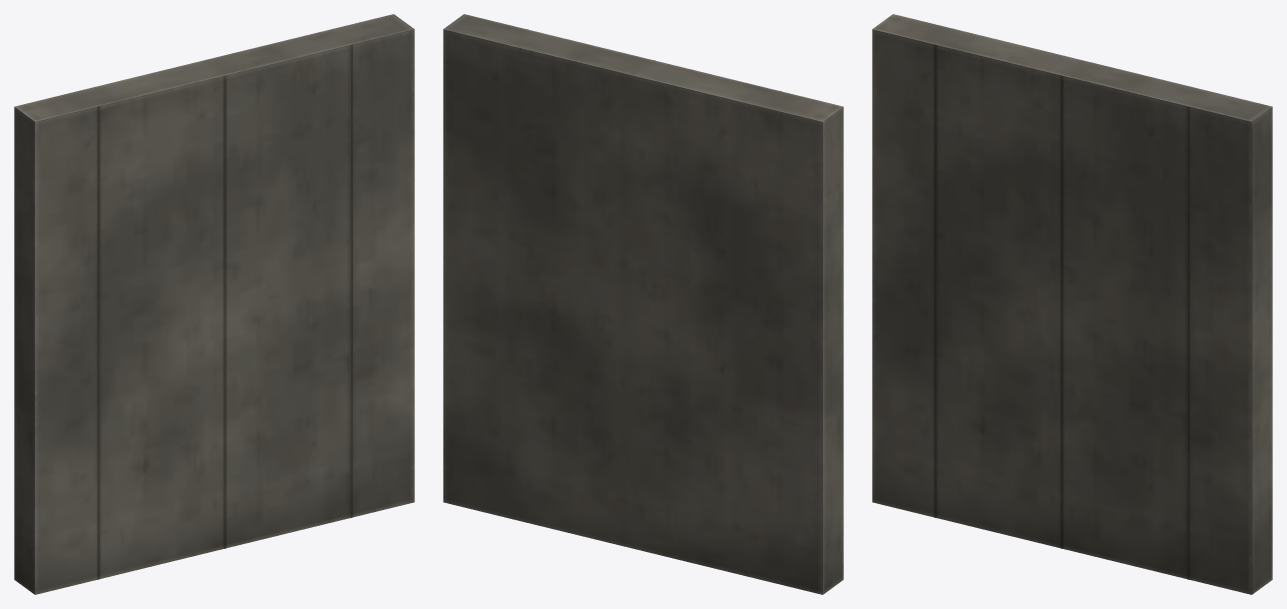
Rendered from panel.glb.
The picture shows the model from 3 angles, left to right: view 1: azimuth 30°, elevation 25°; view 2: azimuth 150°, elevation 25°; view 3: azimuth 330°, elevation 25°; orthographic projection.
Parts seen in each view (by area): view 1: te_retaining_panel; view 2: te_retaining_panel; view 3: te_retaining_panel.
Part boxes in pixels (x1,y1,x2,y2): te_retaining_panel: (14,14,414,594); te_retaining_panel: (443,14,843,594); te_retaining_panel: (872,14,1272,594).
Size of the model in its own units: 0.84 by 1 by 0.0806.
Materials: 1 (1 with a texture image).
